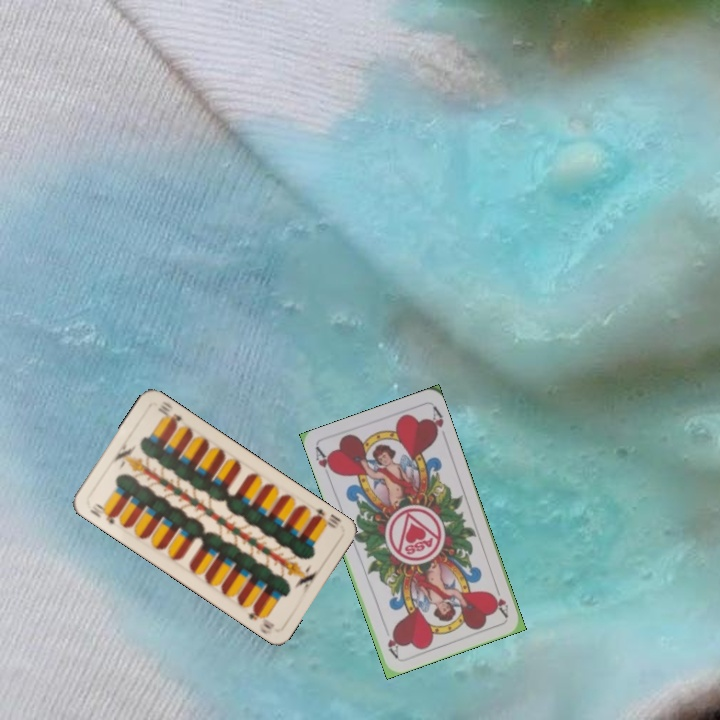E10: (86, 499, 120, 527), (308, 504, 343, 531)
HA: (311, 443, 338, 482), (488, 580, 511, 620)
